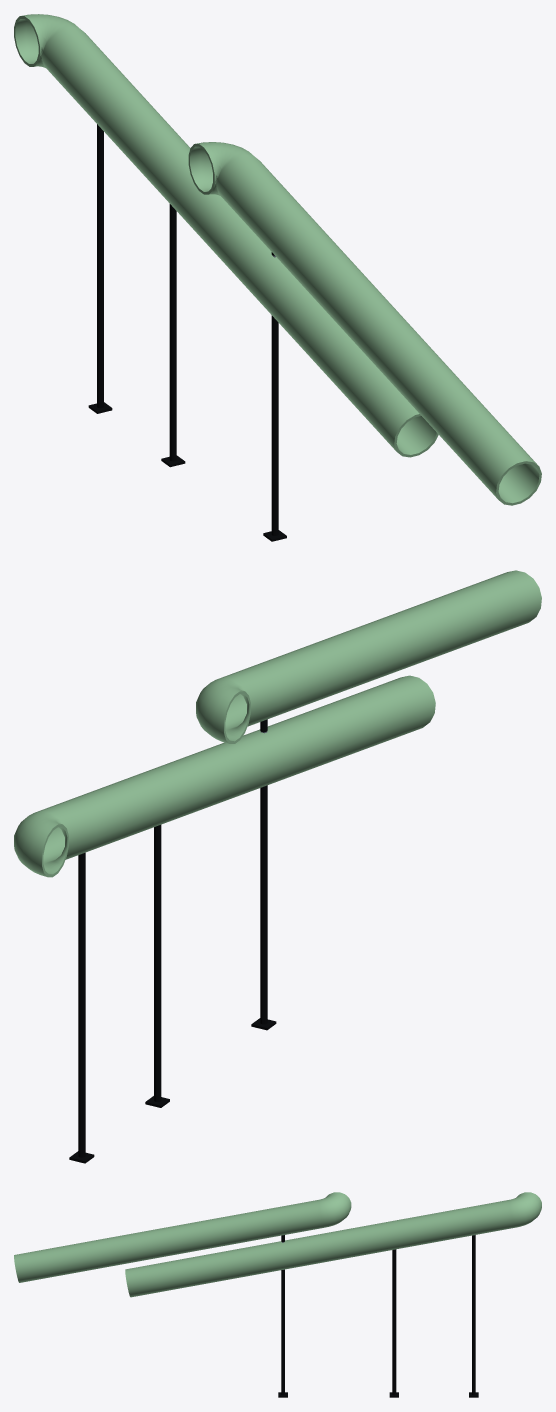
The model's file is tt_leisure_slide_tubes_e.glb.
3 views of the same model, one above another, from view 1: azimuth 30°, elevation 25°; view 2: azimuth 150°, elevation 25°; view 3: azimuth 270°, elevation 25° (orthographic). The views are drawn at different scales.
Parts seen in each view (by area): view 1: Slide_Tube, Tube_SupportPosts; view 2: Slide_Tube, Tube_SupportPosts; view 3: Slide_Tube, Tube_SupportPosts.
Boxes of the visible parts, bbox=[...] form: Slide_Tube: bbox=[14, 14, 541, 505]; Tube_SupportPosts: bbox=[97, 124, 278, 535]; Slide_Tube: bbox=[14, 570, 541, 877]; Tube_SupportPosts: bbox=[78, 719, 267, 1157]; Slide_Tube: bbox=[14, 1192, 541, 1297]; Tube_SupportPosts: bbox=[281, 1235, 475, 1395].
Size of what is drawn, in the model's own units: 0.924 by 6.84 by 16.61.
Materials: 3 (2 with a texture image).
